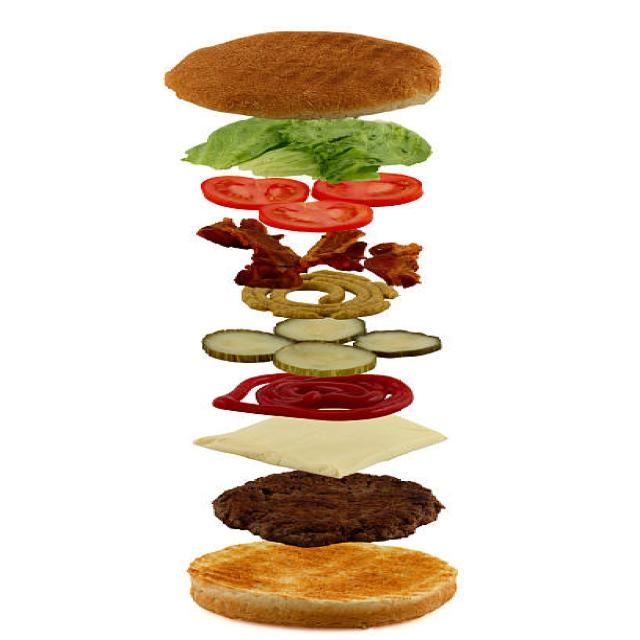paper: (162, 18, 462, 111), (167, 552, 498, 618), (217, 471, 464, 544), (173, 125, 455, 177), (195, 219, 312, 294), (195, 379, 432, 408), (194, 326, 298, 364), (321, 174, 452, 202), (270, 194, 385, 224), (265, 342, 392, 368), (199, 176, 300, 208), (351, 330, 462, 356)
